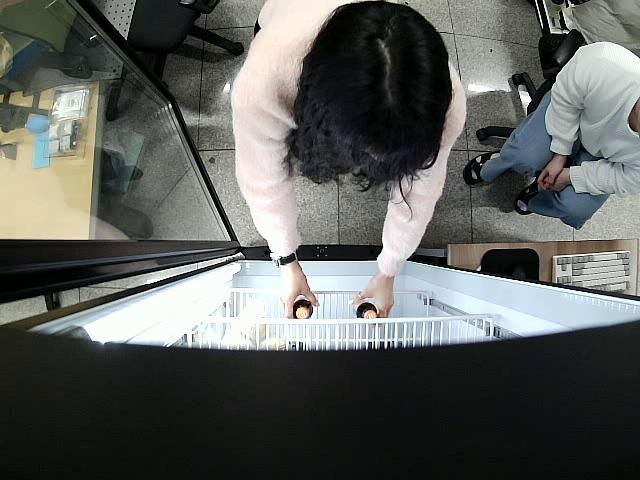17_vita500: (352, 299, 379, 324), (290, 297, 314, 322)
